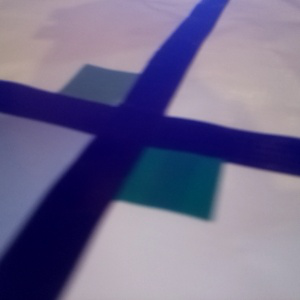top_left: (114, 124, 221, 220), (58, 64, 142, 126)
